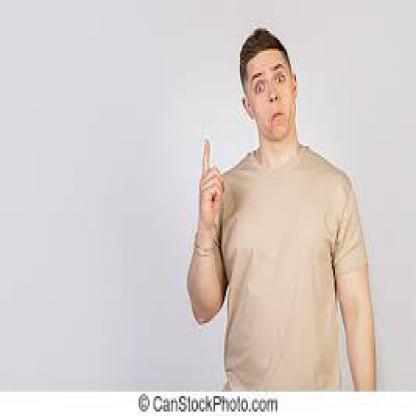Up: (193, 136, 236, 223)
